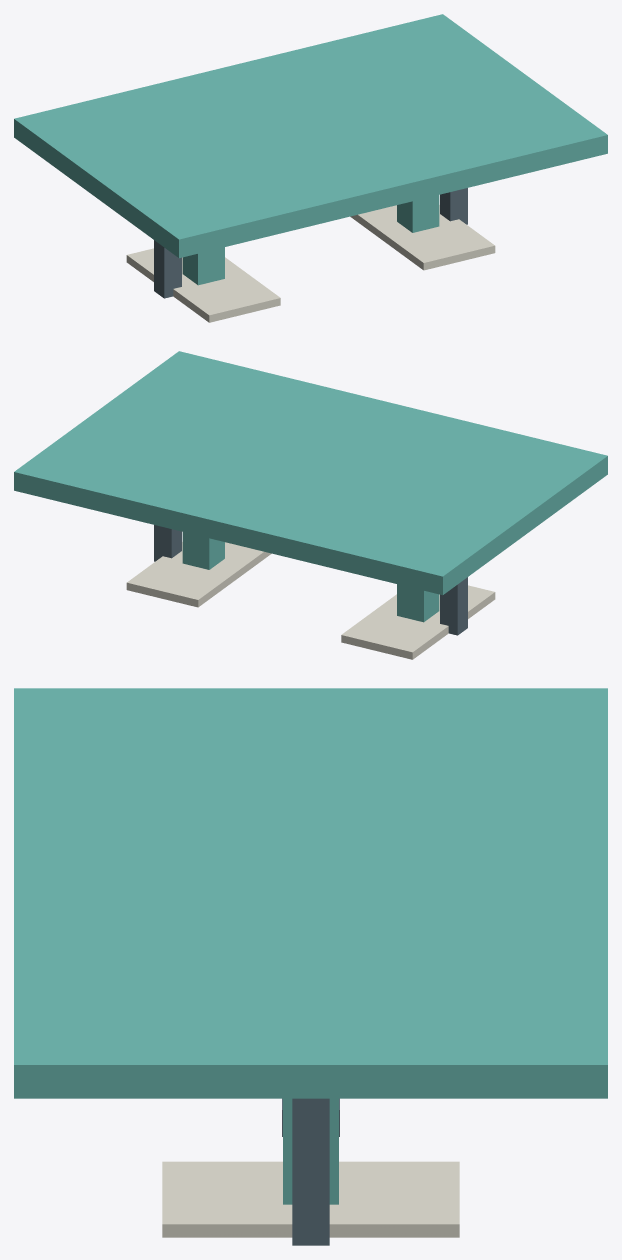
The model's file is voxel-city-districts-petrol-canopy-88dce296__24782.glb.
3 renders of one model, top to bottom at view 1: azimuth 30°, elevation 25°; view 2: azimuth 150°, elevation 25°; view 3: azimuth 270°, elevation 25°, orthographic. The views are drawn at different scales.
Visible parts, largest first — view 1: petrol-canopy-accent, petrol-canopy-concrete, petrol-canopy-dark; view 2: petrol-canopy-accent, petrol-canopy-concrete, petrol-canopy-dark; view 3: petrol-canopy-accent, petrol-canopy-concrete, petrol-canopy-dark.
Part boxes in pixels (x1,y1,x2,y2): petrol-canopy-accent: (14, 14, 607, 285); petrol-canopy-concrete: (126, 205, 495, 322); petrol-canopy-dark: (154, 188, 467, 298); petrol-canopy-accent: (14, 351, 607, 622); petrol-canopy-concrete: (126, 542, 495, 659); petrol-canopy-dark: (154, 525, 467, 635); petrol-canopy-accent: (14, 688, 607, 1204); petrol-canopy-concrete: (162, 1161, 459, 1237); petrol-canopy-dark: (282, 1098, 339, 1245).
Bounding box in the file's own units: 12 × 3.5 × 8.
